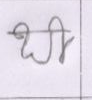i_matra: (51, 16, 70, 62)
